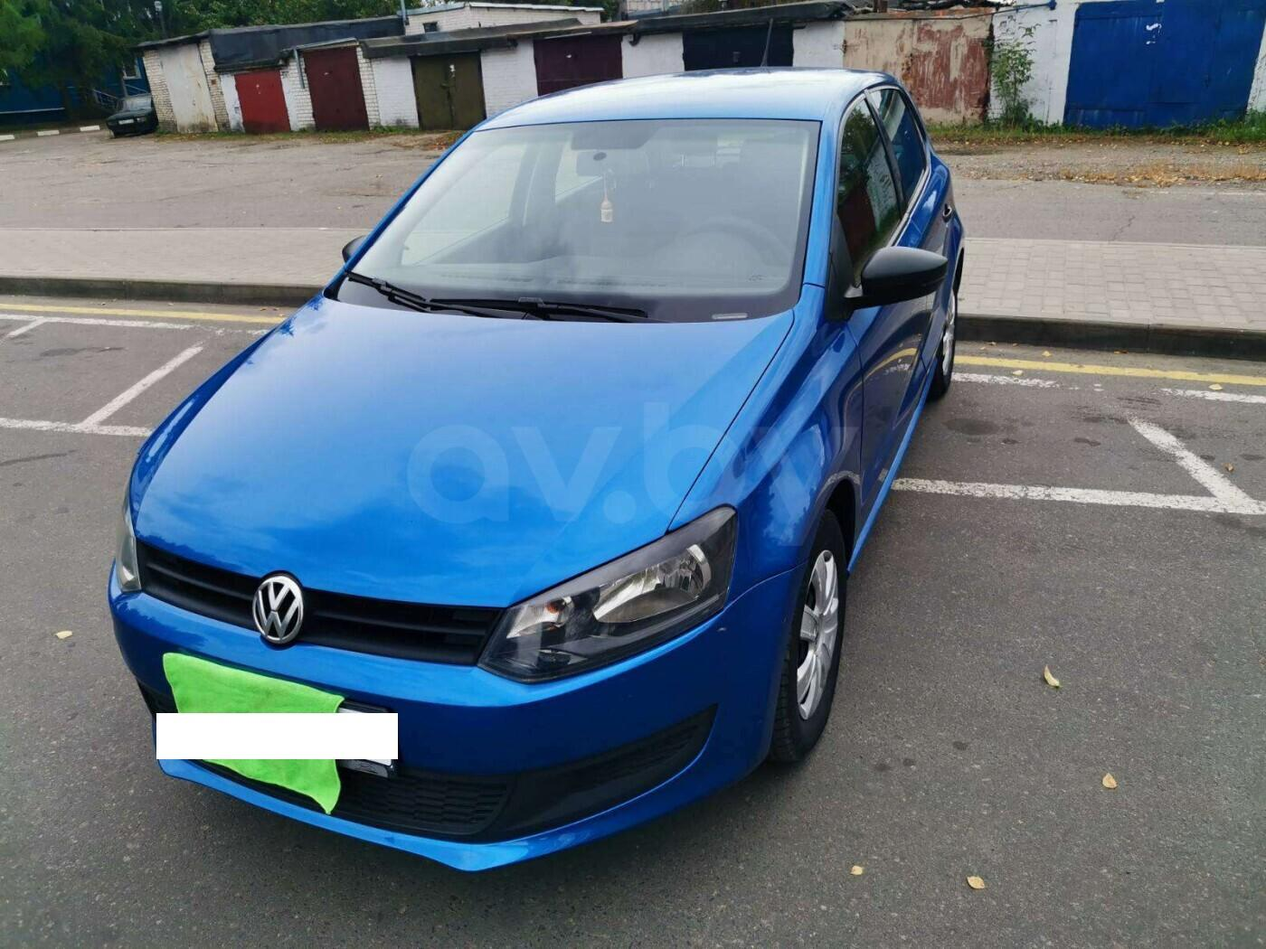Polo_2009-2015: (82, 43, 992, 913)
